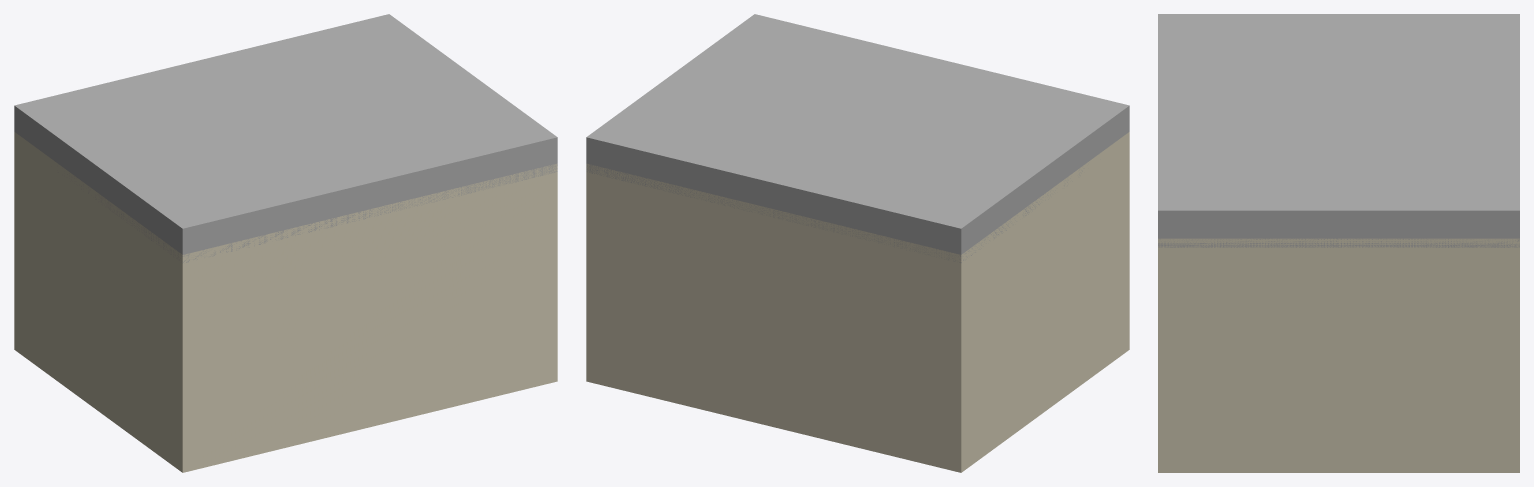
The model's file is relief_supply_box.glb.
3 views of the same model, side by side, from view 1: azimuth 30°, elevation 25°; view 2: azimuth 150°, elevation 25°; view 3: azimuth 270°, elevation 25° (orthographic). The views are drawn at different scales.
Parts seen in each view (by area): view 1: box, lid; view 2: box, lid; view 3: box, lid.
Boxes of the visible parts, bbox=[...] form: box: bbox=[14, 132, 557, 472]; lid: bbox=[14, 14, 557, 263]; box: bbox=[586, 132, 1129, 472]; lid: bbox=[586, 14, 1129, 262]; box: bbox=[1158, 238, 1519, 472]; lid: bbox=[1158, 14, 1519, 247].
Bounding box in the file's own units: 0.8999 × 0.56 × 0.7002.
